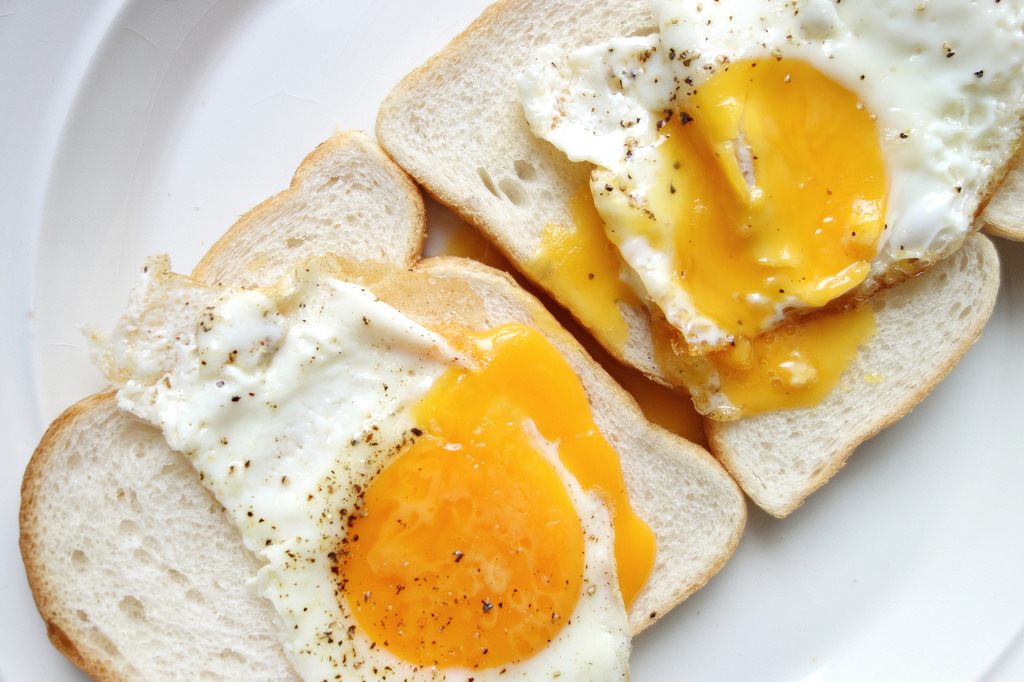fried egg: (532, 6, 1024, 337), (232, 331, 658, 657)
slice of bread: (15, 177, 787, 682), (381, 5, 998, 527)
